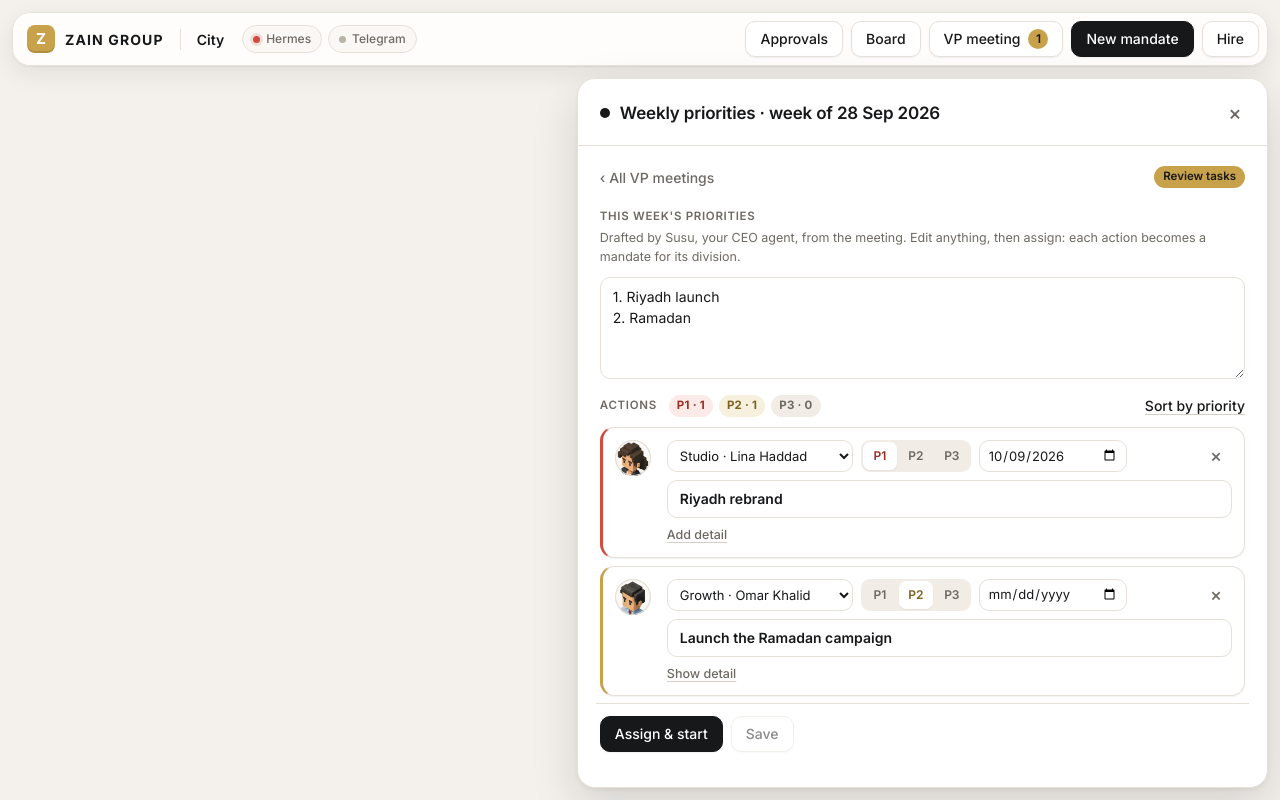
Scenario: Leadership review › shows partial failures per row and retries just that row
Click the button "Assign & start" at [661, 734], box x1=600 y1=716 x2=723 y2=752
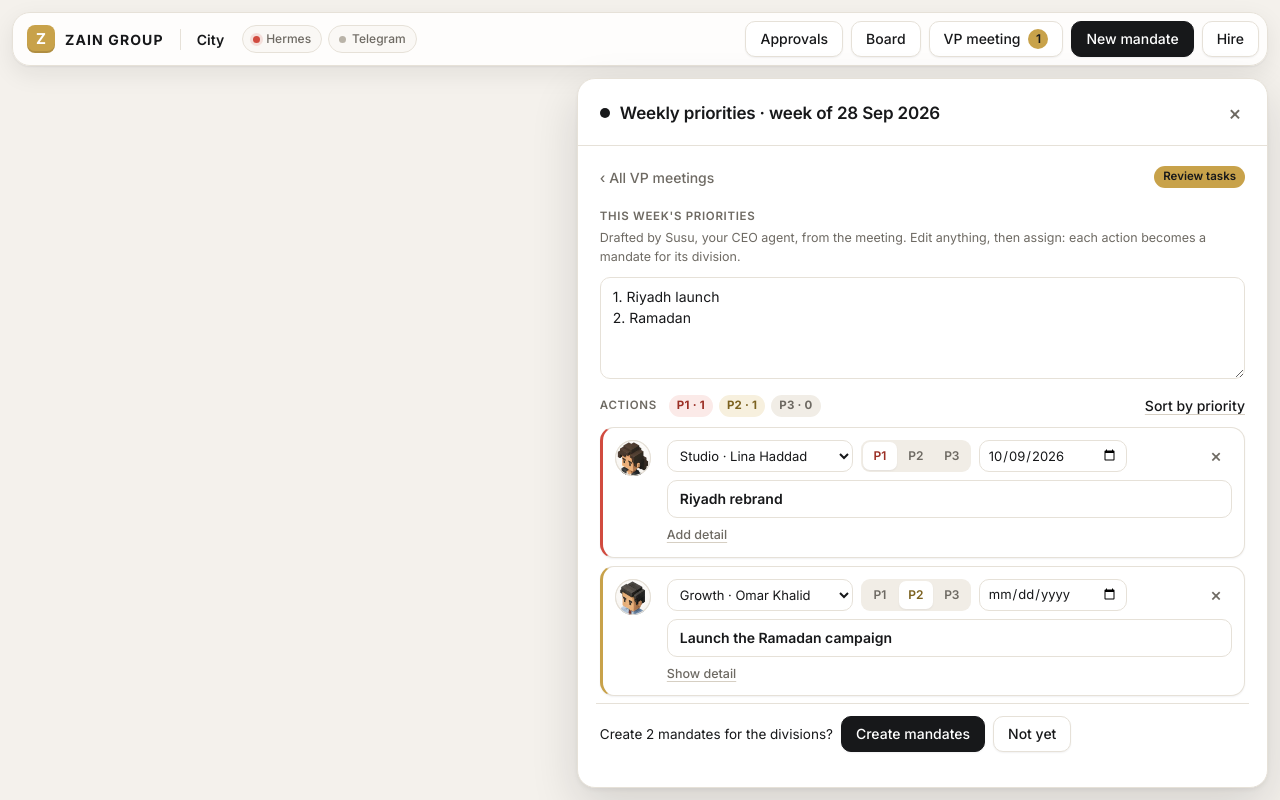
Click the button "Create mandates" at [913, 734], box x1=841 y1=716 x2=985 y2=752
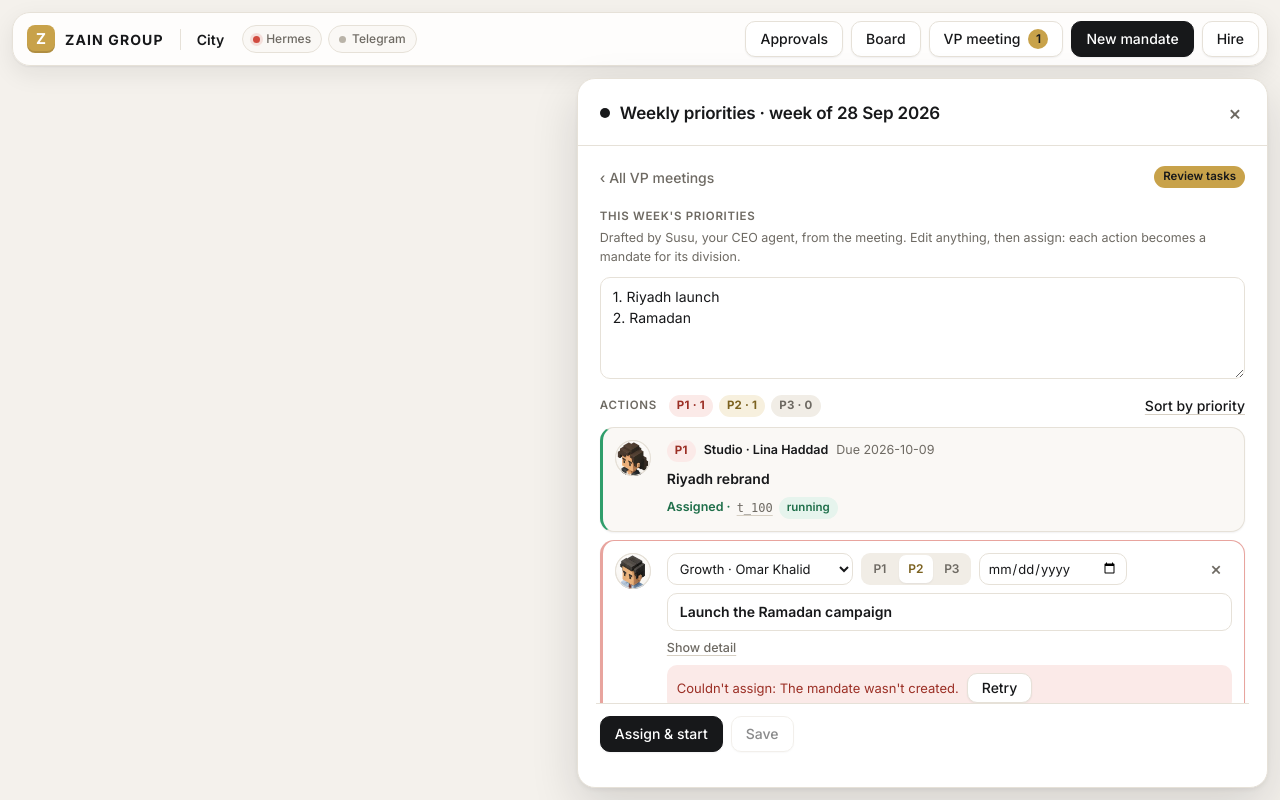
Now the message "Couldn't assign: The mandate wasn't created. Retry" is shown, box x1=667 y1=665 x2=1232 y2=711
Now the list item named "Open task t_100" shows "Assigned · t_100", box x1=600 y1=427 x2=1245 y2=532
Click the button "Retry" at [1000, 688], box x1=967 y1=673 x2=1032 y2=703
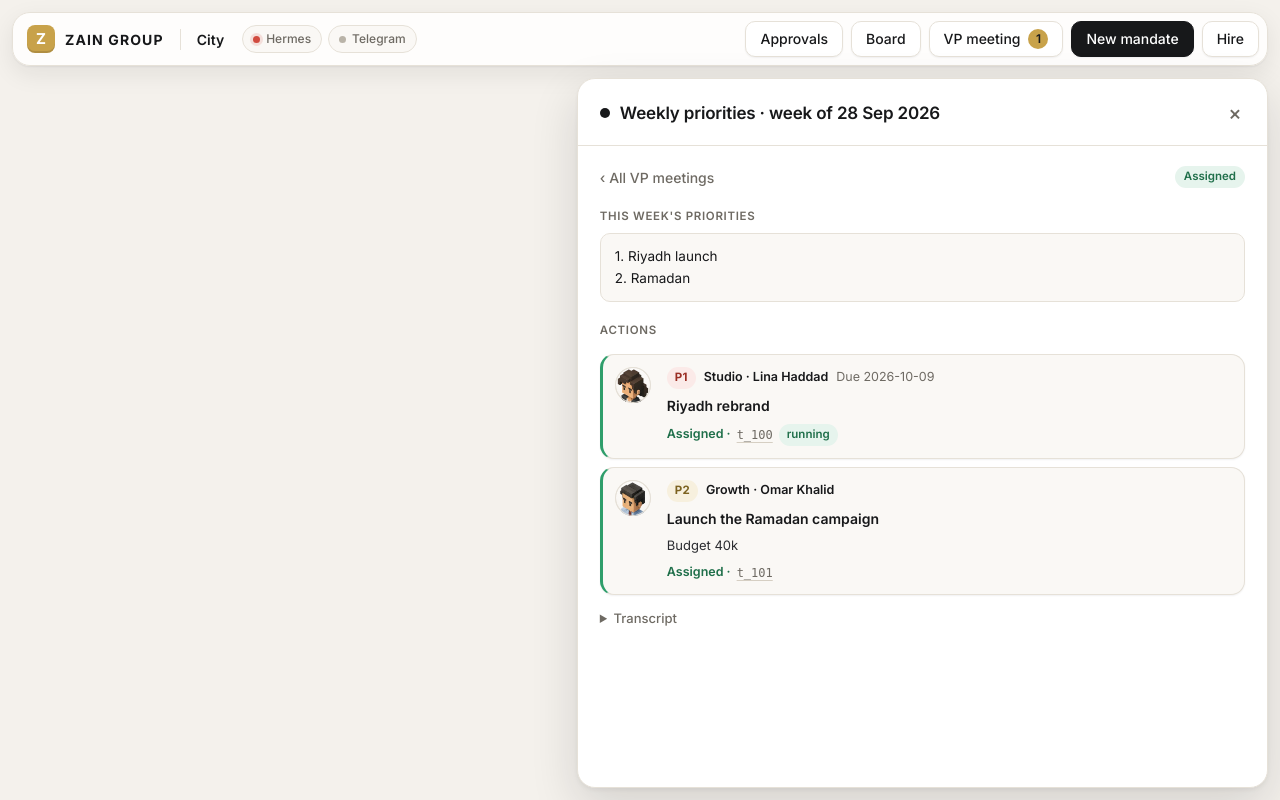
Now the element "This week's priorities" is shown, box x1=600 y1=202 x2=1245 y2=302
